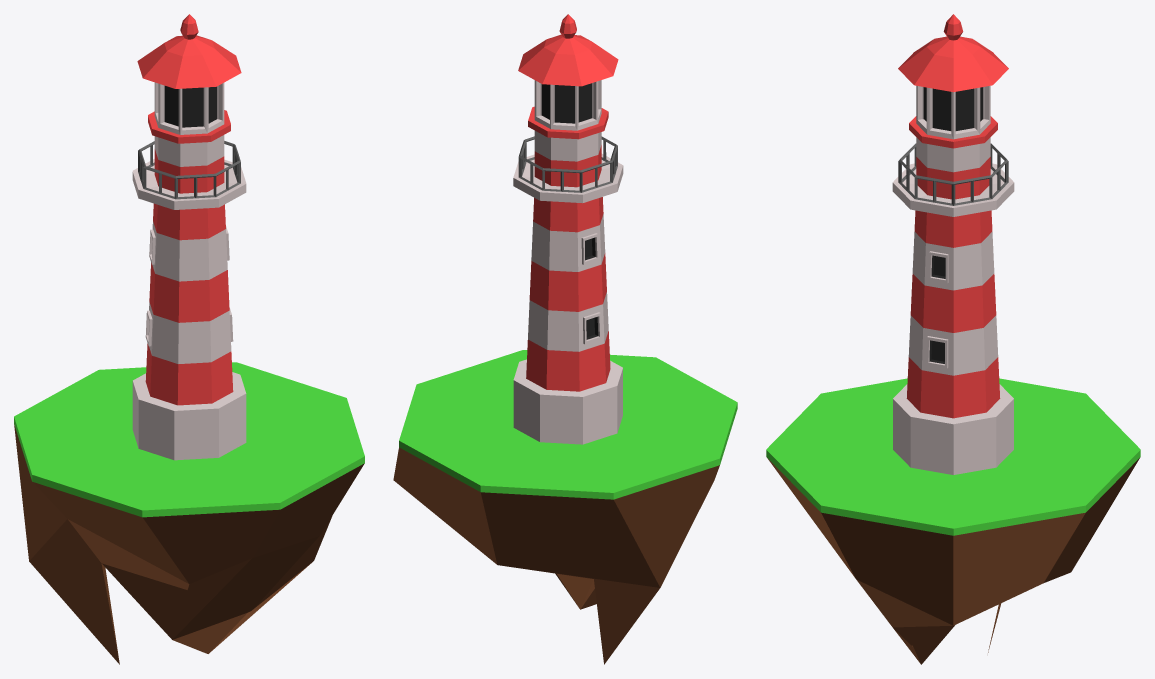
Rendered from phare-flip.fbx.
3 renders of one model, left to right at view 1: azimuth 30°, elevation 25°; view 2: azimuth 150°, elevation 25°; view 3: azimuth 270°, elevation 25°, orthographic. The views are drawn at different scales.
Visible parts, largest first — view 1: Circle.002, Circle, Circle.001; view 2: Circle.002, Circle, Circle.001; view 3: Circle.002, Circle, Circle.001.
Part boxes in pixels (x1,y1,x2,y2): Circle.002: (14, 362, 364, 664); Circle: (132, 14, 246, 460); Circle.001: (138, 141, 240, 199); Circle.002: (393, 350, 737, 664); Circle: (513, 14, 623, 444); Circle.001: (518, 136, 617, 192); Circle.002: (766, 378, 1140, 664); Circle: (892, 14, 1014, 474); Circle.001: (898, 143, 1008, 205).
Bounding box in the file's own units: 277 × 548 × 277.
